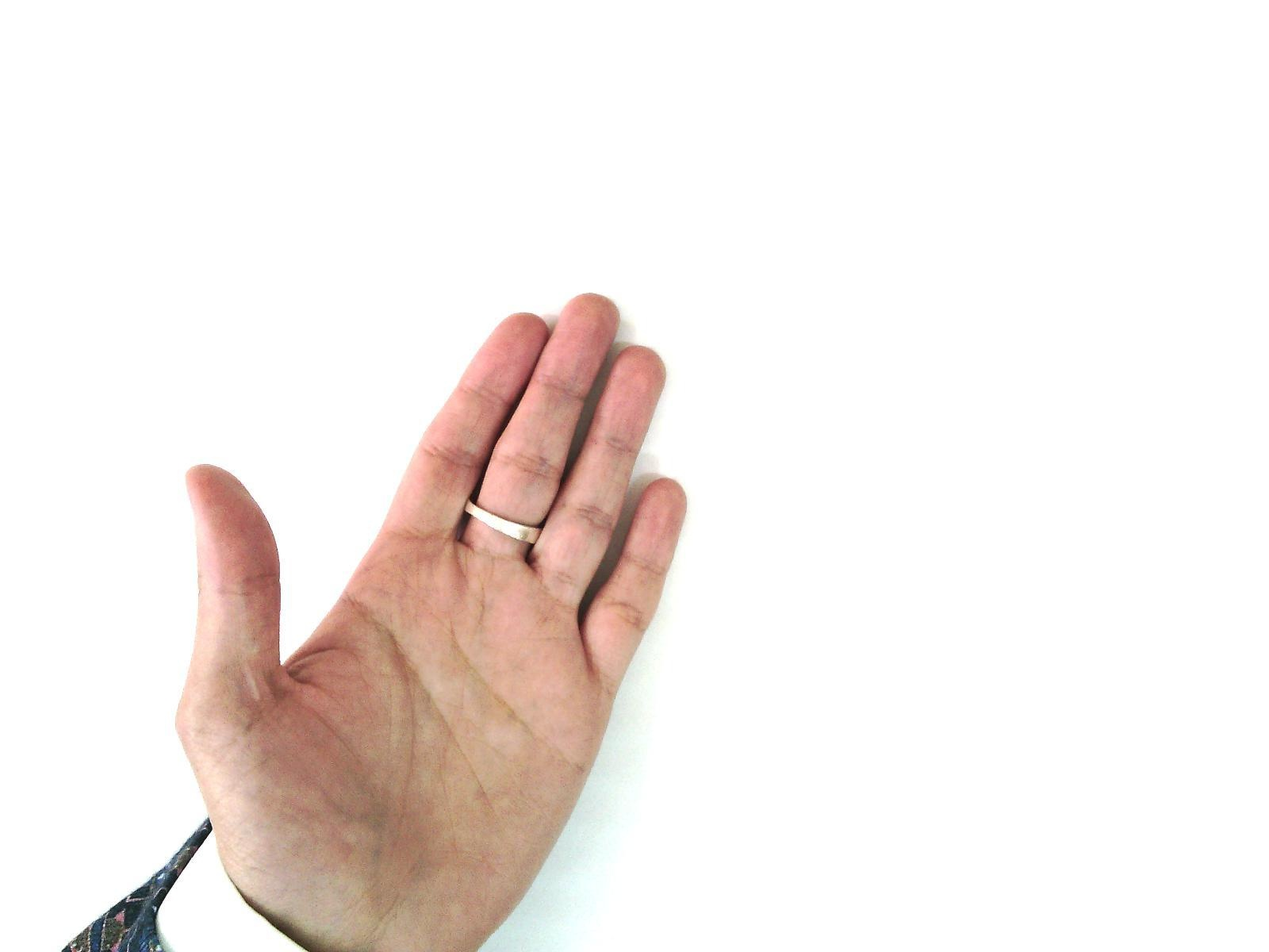open_palm: (174, 291, 691, 951)
